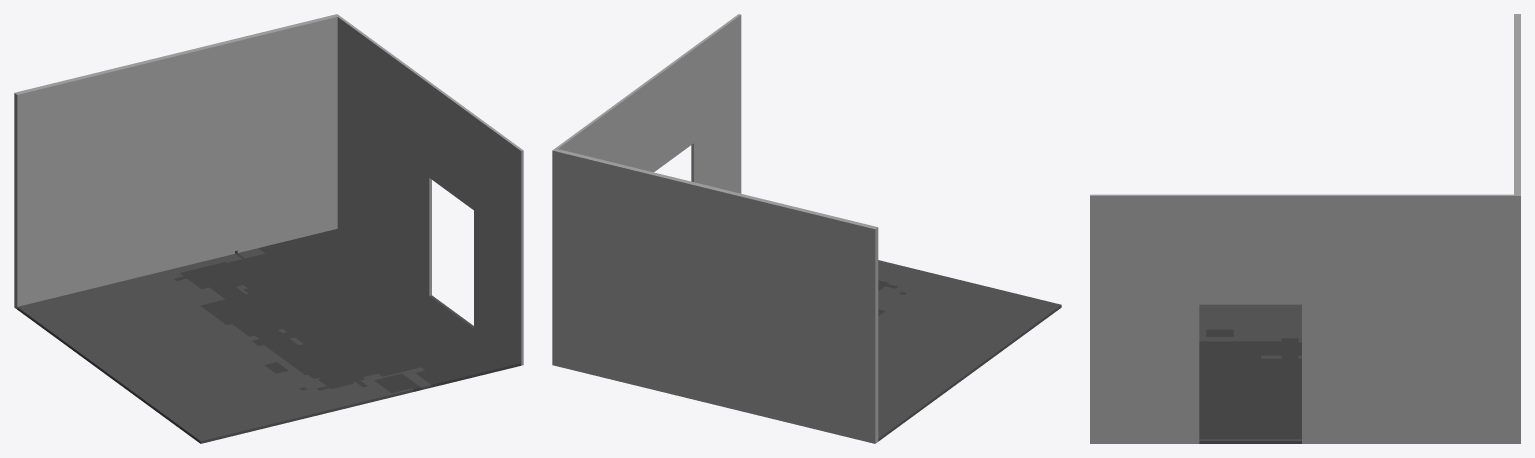
Rendered from 4x2 second (1)-4.obj.
The picture shows the model from 3 angles, left to right: view 1: azimuth 30°, elevation 25°; view 2: azimuth 150°, elevation 25°; view 3: azimuth 270°, elevation 25°; orthographic projection. The views are drawn at different scales.
Parts seen in each view (by area): view 1: 4x2 second (1)-4; view 2: 4x2 second (1)-4; view 3: 4x2 second (1)-4.
Boxes of the visible parts, left/top/right/bottom form: 4x2 second (1)-4: left=14, top=14, right=523, bottom=443; 4x2 second (1)-4: left=552, top=14, right=1061, bottom=443; 4x2 second (1)-4: left=1090, top=14, right=1520, bottom=443.
Bounding box in the file's own units: 126 × 80 × 126.
1 material, 1 textured.
